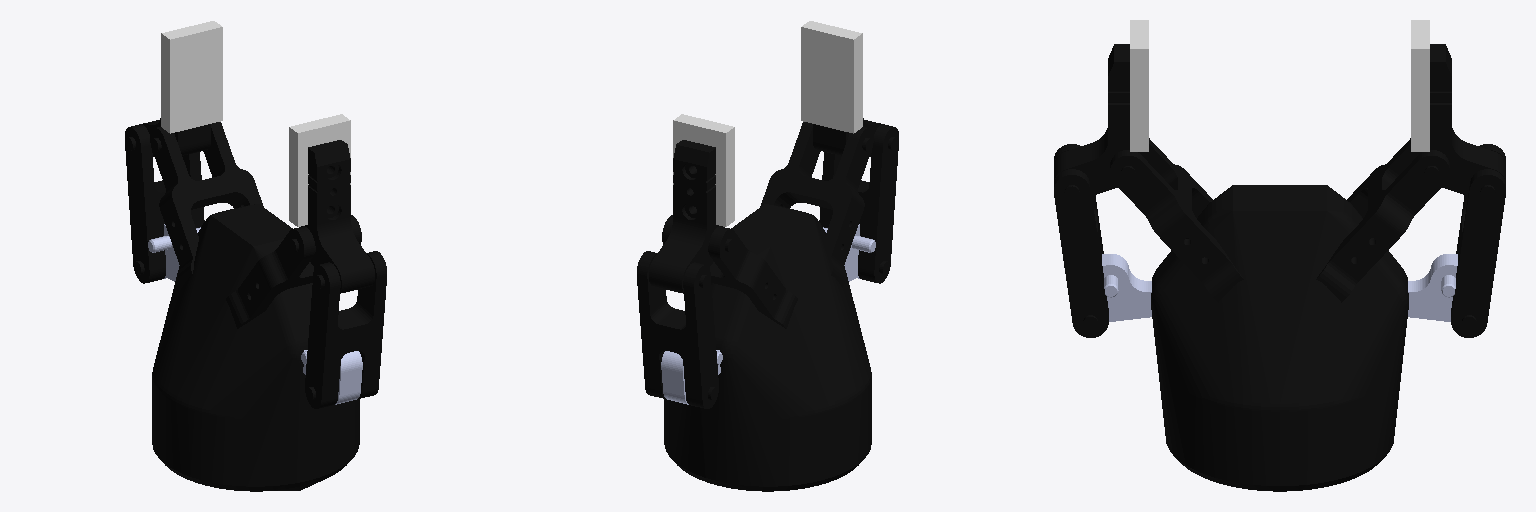
robot.urdf — robotiq_arg2f_85_model:
<?xml version="1.0" ?>
<!-- =================================================================================== -->
<!-- |    This document was autogenerated by xacro from robotiq_arg2f_85_model.xacro   | -->
<!-- |    EDITING THIS FILE BY HAND IS NOT RECOMMENDED                                 | -->
<!-- =================================================================================== -->
<robot name="robotiq_arg2f_85_model">
  <link name="robotiq_arg2f_base_link">
    <inertial>
      <origin rpy="0 0 0" xyz="8.625E-08 -4.6583E-06 0.03145"/>
      <mass value="0.22652"/>
      <inertia ixx="0.00020005" ixy="-4.2442E-10" ixz="-2.9069E-10" iyy="0.00017832" iyz="-3.4402E-08" izz="0.00013478"/>
    </inertial>
    <visual>
      <origin rpy="0 0 0" xyz="0 0 0"/>
      <geometry>
        <mesh filename="../meshes/visual/robotiq_arg2f_85_base_link.obj"/>
      </geometry>
      <material name="">
        <color rgba="0.1 0.1 0.1 1"/>
      </material>
    </visual>
    <collision>
      <origin rpy="0 0 0" xyz="0 0 0"/>
      <geometry>
        <mesh filename="../meshes/collision/robotiq_arg2f_base_link.obj"/>
      </geometry>
    </collision>
  </link>
  <link name="left_outer_knuckle">
    <inertial>
        <origin xyz="-0.000200000000003065 0.0199435877845359 0.0292245259211331" rpy="0 0 0" />
        <mass value="0.00853198276973456" />
        <inertia ixx="2.89328108496468E-06" ixy="-1.57935047237397E-19" ixz="-1.93980378593255E-19" iyy="1.86719750325683E-06" iyz="-1.21858577871576E-06" izz="1.21905238907251E-06" />
        </inertial>
    <visual>
      <origin rpy="0 0 0" xyz="0 0 0"/>
      <geometry>
        <mesh filename="../meshes/visual/robotiq_arg2f_85_outer_knuckle.obj" scale="0.001 0.001 0.001"/>
      </geometry>
      <material name="">
        <color rgba="0.792156862745098 0.819607843137255 0.933333333333333 1"/>
      </material>
    </visual>
    <collision>
      <origin rpy="0 0 0" xyz="0 0 0"/>
      <geometry>
        <mesh filename="../meshes/collision/robotiq_arg2f_85_outer_knuckle.obj" scale="0.001 0.001 0.001"/>
      </geometry>
    </collision>
  </link>
  <link name="left_outer_finger">
    <inertial>
        <origin xyz="0.00030115855001899 0.0373907951953854 -0.0208027427000385" rpy="0 0 0" />
        <mass value="0.022614240507152" />
        <inertia ixx="1.52518312458174E-05" ixy="9.76583423954399E-10" ixz="-5.43838577022588E-10" iyy="6.17694243867776E-06" iyz="6.78636130740228E-06" izz="1.16494917907219E-05" />
        </inertial>
    <visual>
      <origin rpy="0 0 0" xyz="0 0 0"/>
      <geometry>
        <mesh filename="../meshes/visual/robotiq_arg2f_85_outer_finger.obj" scale="0.001 0.001 0.001"/>
      </geometry>
      <material name="">
        <color rgba="0.1 0.1 0.1 1"/>
      </material>
    </visual>
    <collision>
      <origin rpy="0 0 0" xyz="0 0 0"/>
      <geometry>
        <mesh filename="../meshes/collision/robotiq_arg2f_85_outer_finger.obj" scale="0.001 0.001 0.001"/>
      </geometry>
    </collision>
  </link>
  <link name="left_inner_finger">
    <inertial>
        <origin xyz="0.000299999999999317 0.0160078233491243 -0.0136945669206257" rpy="0 0 0" />
        <mass value="0.0104003125914103" />
        <inertia ixx="2.71909453810972E-06" ixy="1.35402465472579E-21" ixz="-7.1817349065269E-22" iyy="7.69100314106116E-07" iyz="6.74715432769696E-07" izz="2.30315190420171E-06" />
        </inertial>
    <visual>
      <origin rpy="0 0 0" xyz="0 0 0"/>
      <geometry>
        <mesh filename="../meshes/visual/robotiq_arg2f_85_inner_finger.obj" scale="0.001 0.001 0.001"/>
      </geometry>
      <material name="">
        <color rgba="0.1 0.1 0.1 1"/>
      </material>
    </visual>
    <collision>
      <origin rpy="0 0 0" xyz="0 0 0"/>
      <geometry>
        <mesh filename="../meshes/collision/robotiq_arg2f_85_inner_finger.obj" scale="0.001 0.001 0.001"/>
      </geometry>
    </collision>
  </link>
  <link name="left_inner_finger_pad">
    <visual>
      <origin rpy="0 0 0" xyz="0 0 0"/>
      <geometry>
        <box size="0.022 0.00635 0.0375"/>
      </geometry>
      <material name="">
        <color rgba="0.9 0.9 0.9 1"/>
      </material>
    </visual>
    <collision>
      <origin rpy="0 0 0" xyz="0 0 0"/>
      <geometry>
        <box size="0.022 0.00635 0.0375"/>
      </geometry>
      <material name="">
        <color rgba="0.9 0.0 0.0 1"/>
      </material>
    </collision>
  </link>
  <link name="left_inner_knuckle">
    <inertial>
        <origin xyz="0.000123011831763771 0.0507850843201817 0.00103968640075166" rpy="0 0 0" />
       <mass value="0.0271177346495152" />
        <inertia ixx="2.61910379223783E-05" ixy="-2.43616858946494E-07" ixz="-6.37789906117123E-09" iyy="2.8270243746167E-06" iyz="-5.37200748039765E-07" izz="2.83695868220296E-05" />
        </inertial>
    <visual>
      <origin rpy="0 0 0" xyz="0 0 0"/>
      <geometry>
        <mesh filename="../meshes/visual/robotiq_arg2f_85_inner_knuckle.obj" scale="0.001 0.001 0.001"/>
      </geometry>
      <material name="">
        <color rgba="0.1 0.1 0.1 1"/>
      </material>
    </visual>
    <collision>
      <origin rpy="0 0 0" xyz="0 0 0"/>
      <geometry>
        <mesh filename="../meshes/collision/robotiq_arg2f_85_inner_knuckle.obj" scale="0.001 0.001 0.001"/>
      </geometry>
    </collision>
  </link>
  <link name="right_outer_knuckle">
    <inertial>
        <origin xyz="-0.000200000000003065 0.0199435877845359 0.0292245259211331" rpy="0 0 0" />
        <mass value="0.00853198276973456" />
        <inertia ixx="2.89328108496468E-06" ixy="-1.57935047237397E-19" ixz="-1.93980378593255E-19" iyy="1.86719750325683E-06" iyz="-1.21858577871576E-06" izz="1.21905238907251E-06" />
        </inertial>
    <visual>
      <origin rpy="0 0 0" xyz="0 0 0"/>
      <geometry>
        <mesh filename="../meshes/visual/robotiq_arg2f_85_outer_knuckle.obj" scale="0.001 0.001 0.001"/>
      </geometry>
      <material name="">
        <color rgba="0.792156862745098 0.819607843137255 0.933333333333333 1"/>
      </material>
    </visual>
    <collision>
      <origin rpy="0 0 0" xyz="0 0 0"/>
      <geometry>
        <mesh filename="../meshes/collision/robotiq_arg2f_85_outer_knuckle.obj" scale="0.001 0.001 0.001"/>
      </geometry>
    </collision>
  </link>
  <link name="right_outer_finger">
    <inertial>
        <origin xyz="0.00030115855001899 0.0373907951953854 -0.0208027427000385" rpy="0 0 0" />
        <mass value="0.022614240507152" />
        <inertia ixx="1.52518312458174E-05" ixy="9.76583423954399E-10" ixz="-5.43838577022588E-10" iyy="6.17694243867776E-06" iyz="6.78636130740228E-06" izz="1.16494917907219E-05" />
        </inertial>
    <visual>
      <origin rpy="0 0 0" xyz="0 0 0"/>
      <geometry>
        <mesh filename="../meshes/visual/robotiq_arg2f_85_outer_finger.obj" scale="0.001 0.001 0.001"/>
      </geometry>
      <material name="">
        <color rgba="0.1 0.1 0.1 1"/>
      </material>
    </visual>
    <collision>
      <origin rpy="0 0 0" xyz="0 0 0"/>
      <geometry>
        <mesh filename="../meshes/collision/robotiq_arg2f_85_outer_finger.obj" scale="0.001 0.001 0.001"/>
      </geometry>
    </collision>
  </link>
  <link name="right_inner_finger">
    <inertial>
        <origin xyz="0.000299999999999317 0.0160078233491243 -0.0136945669206257" rpy="0 0 0" />
        <mass value="0.0104003125914103" />
        <inertia ixx="2.71909453810972E-06" ixy="1.35402465472579E-21" ixz="-7.1817349065269E-22" iyy="7.69100314106116E-07" iyz="6.74715432769696E-07" izz="2.30315190420171E-06" />
        </inertial>
    <visual>
      <origin rpy="0 0 0" xyz="0 0 0"/>
      <geometry>
        <mesh filename="../meshes/visual/robotiq_arg2f_85_inner_finger.obj" scale="0.001 0.001 0.001"/>
      </geometry>
      <material name="">
        <color rgba="0.1 0.1 0.1 1"/>
      </material>
    </visual>
    <collision>
      <origin rpy="0 0 0" xyz="0 0 0"/>
      <geometry>
        <mesh filename="../meshes/collision/robotiq_arg2f_85_inner_finger.obj" scale="0.001 0.001 0.001"/>
      </geometry>
    </collision>
  </link>
  <link name="right_inner_finger_pad">
    <visual>
      <origin rpy="0 0 0" xyz="0 0 0"/>
      <geometry>
        <box size="0.022 0.00635 0.0375"/>
      </geometry>
      <material name="">
        <color rgba="0.9 0.9 0.9 1"/>
      </material>
    </visual>
    <collision>
      <origin rpy="0 0 0" xyz="0 0 0"/>
      <geometry>
        <box size="0.022 0.00635 0.0375"/>
      </geometry>
      <material name="">
        <color rgba="0.9 0.0 0.0 1"/>
      </material>
    </collision>
  </link>
  <link name="right_inner_knuckle">
    <inertial>
        <origin xyz="0.000123011831763771 0.0507850843201817 0.00103968640075166" rpy="0 0 0" />
       <mass value="0.0271177346495152" />
        <inertia ixx="2.61910379223783E-05" ixy="-2.43616858946494E-07" ixz="-6.37789906117123E-09" iyy="2.8270243746167E-06" iyz="-5.37200748039765E-07" izz="2.83695868220296E-05" />
        </inertial>
    <visual>
      <origin rpy="0 0 0" xyz="0 0 0"/>
      <geometry>
        <mesh filename="../meshes/visual/robotiq_arg2f_85_inner_knuckle.obj" scale="0.001 0.001 0.001"/>
      </geometry>
      <material name="">
        <color rgba="0.1 0.1 0.1 1"/>
      </material>
    </visual>
    <collision>
      <origin rpy="0 0 0" xyz="0 0 0"/>
      <geometry>
        <mesh filename="../meshes/collision/robotiq_arg2f_85_inner_knuckle.obj" scale="0.001 0.001 0.001"/>
      </geometry>
    </collision>
  </link>
  <joint name="finger_joint" type="fixed">
    <origin rpy="0 0 3.141592653589793" xyz="0 -0.0306011 0.054904"/>
    <parent link="robotiq_arg2f_base_link"/>
    <child link="left_outer_knuckle"/>
    <axis xyz="1 0 0"/>
    <limit effort="1000" lower="0" upper="0.8" velocity="2.0"/>
  </joint>
  <joint name="left_outer_finger_joint" type="fixed">
    <origin rpy="0 0 0" xyz="0 0.0315 -0.0041"/>
    <parent link="left_outer_knuckle"/>
    <child link="left_outer_finger"/>
    <axis xyz="1 0 0"/>
  </joint>
  <joint name="left_inner_knuckle_joint" type="fixed">
    <!-- <origin xyz="0 ${reflect * -0.0127} 0.06142" rpy="${pi / 2 + .725} 0 ${(reflect - 1) * pi / 2}" /> -->
    <origin rpy="0 0 3.141592653589793" xyz="0 -0.0127 0.06142"/>
    <parent link="robotiq_arg2f_base_link"/>
    <child link="left_inner_knuckle"/>
    <axis xyz="1 0 0"/>
    <limit effort="1000" lower="0" upper="0.8757" velocity="2.0"/>
    <mimic joint="finger_joint" multiplier="1" offset="0"/>
  </joint>
  <joint name="left_inner_finger_joint" type="fixed">
    <origin rpy="0 0 0" xyz="0 0.0061 0.0471"/>
    <parent link="left_outer_finger"/>
    <child link="left_inner_finger"/>
    <axis xyz="1 0 0"/>
    <limit effort="1000" lower="-0.8757" upper="0" velocity="2.0"/>
    <mimic joint="finger_joint" multiplier="-1" offset="0"/>
  </joint>
  <joint name="left_inner_finger_pad_joint" type="fixed">
    <origin rpy="0 0 0" xyz="0 -0.0220203446692936 0.03242"/>
    <parent link="left_inner_finger"/>
    <child link="left_inner_finger_pad"/>
    <axis xyz="0 0 1"/>
  </joint>
  <joint name="right_outer_knuckle_joint" type="fixed">
    <origin rpy="0 0 0" xyz="0 0.0306011 0.054904"/>
    <parent link="robotiq_arg2f_base_link"/>
    <child link="right_outer_knuckle"/>
    <axis xyz="1 0 0"/>
    <limit effort="1000" lower="0" upper="0.81" velocity="2.0"/>
    <mimic joint="finger_joint" multiplier="1" offset="0"/>
  </joint>
  <joint name="right_outer_finger_joint" type="fixed">
    <origin rpy="0 0 0" xyz="0 0.0315 -0.0041"/>
    <parent link="right_outer_knuckle"/>
    <child link="right_outer_finger"/>
    <axis xyz="1 0 0"/>
  </joint>
  <joint name="right_inner_knuckle_joint" type="fixed">
    <!-- <origin xyz="0 ${reflect * -0.0127} 0.06142" rpy="${pi / 2 + .725} 0 ${(reflect - 1) * pi / 2}" /> -->
    <origin rpy="0 0 0.0" xyz="0 0.0127 0.06142"/>
    <parent link="robotiq_arg2f_base_link"/>
    <child link="right_inner_knuckle"/>
    <axis xyz="1 0 0"/>
    <limit effort="1000" lower="0" upper="0.8757" velocity="2.0"/>
    <mimic joint="finger_joint" multiplier="1" offset="0"/>
  </joint>
  <joint name="right_inner_finger_joint" type="fixed">
    <origin rpy="0 0 0" xyz="0 0.0061 0.0471"/>
    <parent link="right_outer_finger"/>
    <child link="right_inner_finger"/>
    <axis xyz="1 0 0"/>
    <limit effort="1000" lower="-0.8757" upper="0" velocity="2.0"/>
    <mimic joint="finger_joint" multiplier="-1" offset="0"/>
  </joint>
  <joint name="right_inner_finger_pad_joint" type="fixed">
    <origin rpy="0 0 0" xyz="0 -0.0220203446692936 0.03242"/>
    <parent link="right_inner_finger"/>
    <child link="right_inner_finger_pad"/>
    <axis xyz="0 0 1"/>
  </joint>
</robot>

--- Facts derived from the render (not from the file) ---
Views: 3 orthographic renders of the robot side by side, from view 1: azimuth 30°, elevation 25°; view 2: azimuth 150°, elevation 25°; view 3: azimuth 270°, elevation 25°.
Model robotiq_arg2f_85_model with 11 links and 10 joints (10 fixed), rooted at robotiq_arg2f_base_link, posed all joints at 0.
Visible links, largest first — view 1: robotiq_arg2f_base_link, left_outer_finger, right_inner_knuckle, left_inner_finger, right_inner_finger_pad, right_outer_finger, left_inner_knuckle, left_inner_finger_pad, left_outer_knuckle, right_inner_finger, right_outer_knuckle; view 2: robotiq_arg2f_base_link, right_outer_finger, left_inner_knuckle, right_inner_finger, left_inner_finger_pad, left_outer_finger, right_inner_knuckle, right_inner_finger_pad, right_outer_knuckle, left_inner_finger, left_outer_knuckle; view 3: robotiq_arg2f_base_link, left_inner_knuckle, right_inner_knuckle, left_outer_finger, right_outer_finger, left_inner_finger, right_inner_finger, left_inner_finger_pad, right_inner_finger_pad, left_outer_knuckle, right_outer_knuckle.
Boxes of the visible links, x1,y1,x2,y2 form: robotiq_arg2f_base_link: [152, 204, 359, 491]; left_outer_finger: [305, 251, 386, 408]; right_inner_knuckle: [150, 122, 263, 287]; left_inner_finger: [301, 140, 374, 293]; right_inner_finger_pad: [161, 21, 222, 133]; right_outer_finger: [125, 124, 204, 283]; left_inner_knuckle: [226, 215, 361, 328]; left_inner_finger_pad: [289, 114, 350, 226]; left_outer_knuckle: [301, 350, 362, 404]; right_inner_finger: [142, 118, 210, 156]; right_outer_knuckle: [148, 224, 200, 281]; robotiq_arg2f_base_link: [664, 204, 871, 491]; right_outer_finger: [637, 251, 718, 408]; left_inner_knuckle: [760, 122, 873, 287]; right_inner_finger: [649, 140, 722, 293]; left_inner_finger_pad: [801, 21, 862, 133]; left_outer_finger: [819, 124, 898, 283]; right_inner_knuckle: [662, 215, 797, 328]; right_inner_finger_pad: [673, 114, 734, 226]; right_outer_knuckle: [661, 350, 722, 404]; left_inner_finger: [813, 118, 881, 156]; left_outer_knuckle: [823, 224, 875, 281]; robotiq_arg2f_base_link: [1151, 185, 1408, 491]; left_inner_knuckle: [1110, 138, 1243, 302]; right_inner_knuckle: [1316, 138, 1449, 302]; left_outer_finger: [1054, 144, 1108, 337]; right_outer_finger: [1451, 144, 1505, 337]; left_inner_finger: [1054, 44, 1144, 195]; right_inner_finger: [1415, 44, 1505, 195]; left_inner_finger_pad: [1130, 20, 1148, 151]; right_inner_finger_pad: [1411, 20, 1429, 151]; left_outer_knuckle: [1102, 254, 1151, 321]; right_outer_knuckle: [1408, 254, 1457, 321].
Bounding box of the posed robot: 0.075 × 0.1484 × 0.1518 m (x, y, z).
9 mesh visuals loaded from 5 distinct referenced files (5 OBJ).